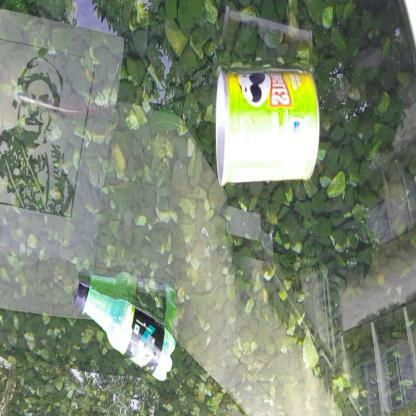Plastic: (215, 66, 322, 190), (72, 281, 180, 384)
